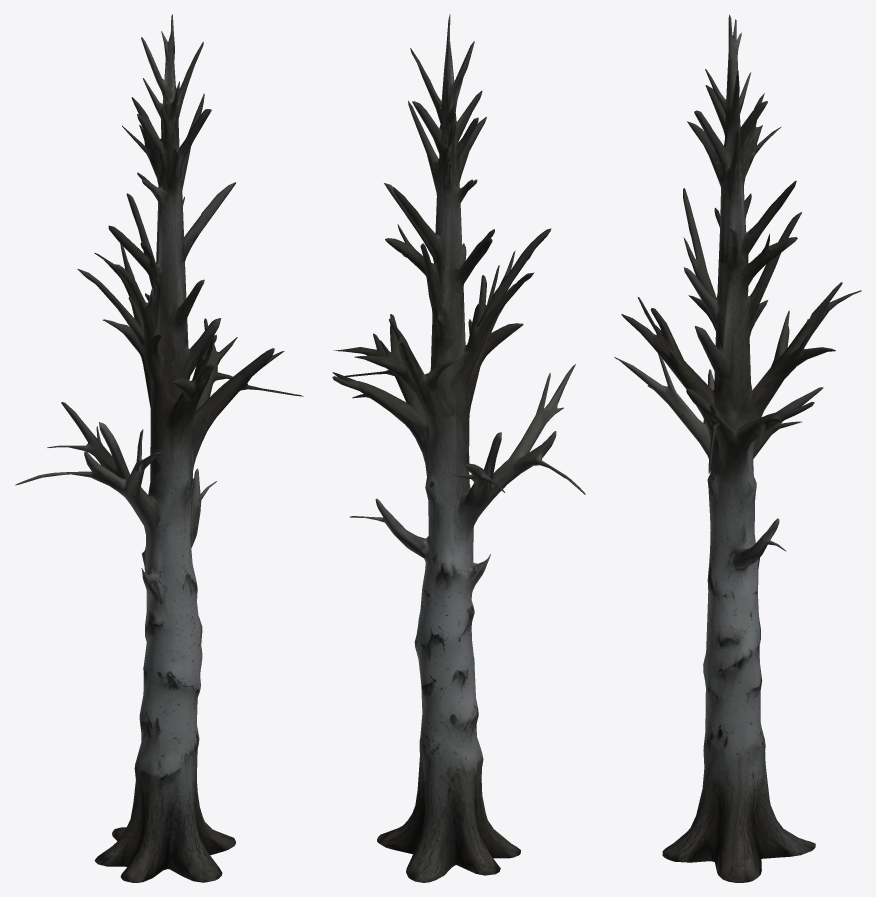
Rendered from elm.opt.glb.
The picture shows the model from 3 angles, left to right: view 1: azimuth 30°, elevation 25°; view 2: azimuth 150°, elevation 25°; view 3: azimuth 270°, elevation 25°; orthographic projection.
Parts seen in each view (by area): view 1: node_0; view 2: node_0; view 3: node_0.
Boxes of the visible parts, box(x1,y1,x2,y2) form: node_0: box(15, 14, 303, 882); node_0: box(332, 14, 585, 882); node_0: box(614, 14, 861, 882).
Bounding box in the file's own units: 0.394 × 1.18 × 0.317.
Materials: 1 (1 with a texture image).
